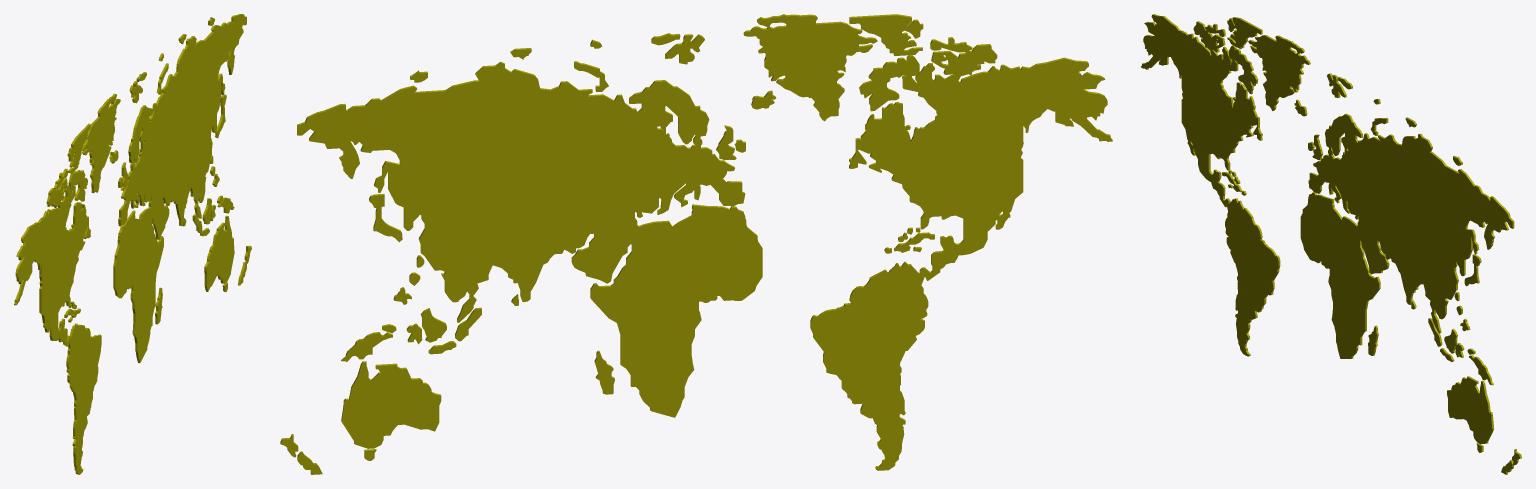
File: OM_Ground Floor_World Map.fbx
The picture shows the model from 3 angles, left to right: view 1: azimuth 30°, elevation 25°; view 2: azimuth 150°, elevation 25°; view 3: azimuth 270°, elevation 25°; orthographic projection. The views are drawn at different scales.
Parts seen in each view (by area): view 1: OM_Gfloor_Lobby_World_Map; view 2: OM_Gfloor_Lobby_World_Map; view 3: OM_Gfloor_Lobby_World_Map.
Boxes of the visible parts, <box> form: OM_Gfloor_Lobby_World_Map: <box>14,14,251,474</box>; OM_Gfloor_Lobby_World_Map: <box>280,14,1112,474</box>; OM_Gfloor_Lobby_World_Map: <box>1141,14,1521,474</box>.
Bounding box in the file's own units: 17.22 × 13.19 × 13.47.
